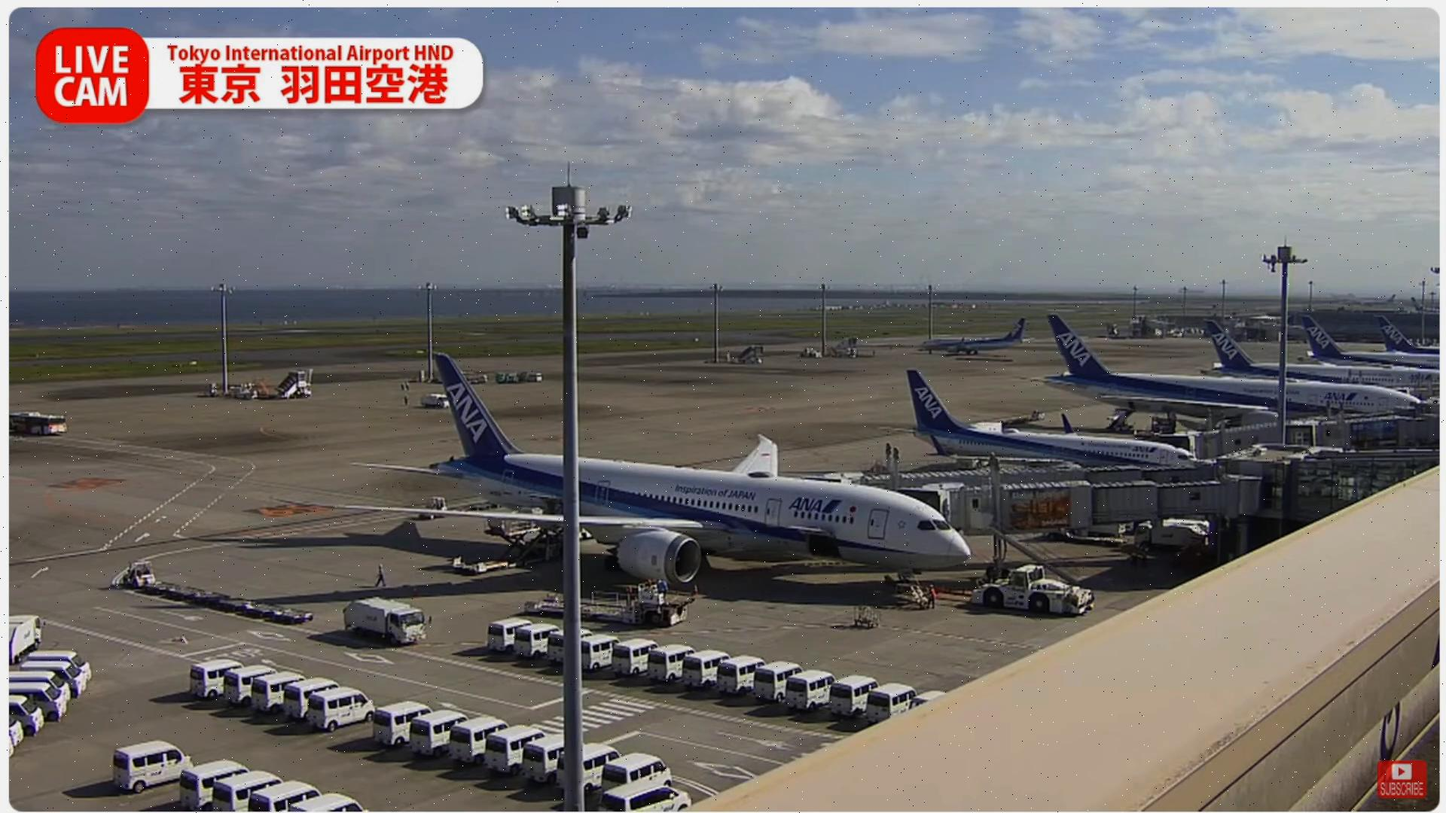APS: (969, 564, 1106, 619)
Aerobridge: (899, 476, 1264, 540), (843, 457, 1217, 496)
Airplane: (330, 354, 973, 599)
Baggage truck: (343, 596, 430, 643)
Dolly: (142, 578, 315, 624)
JCPL: (525, 579, 698, 628), (450, 522, 565, 575)
Tractor: (119, 562, 157, 589), (427, 495, 455, 520)
Window: (1290, 456, 1440, 523)
